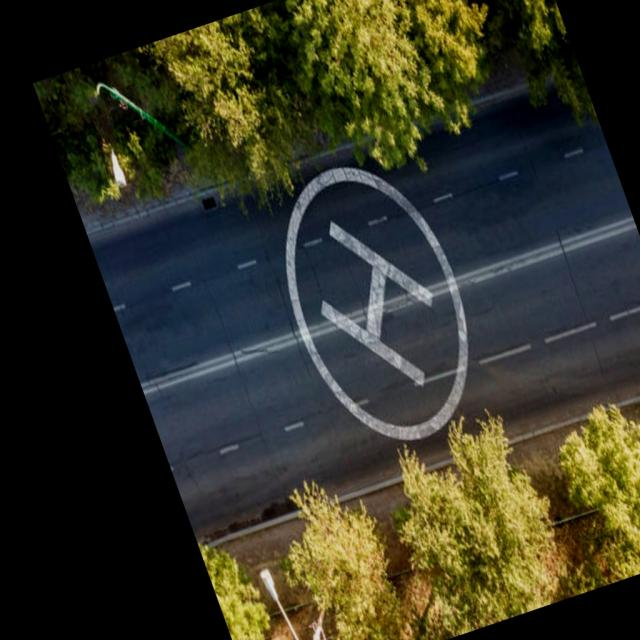helipad: (279, 160, 474, 442)
